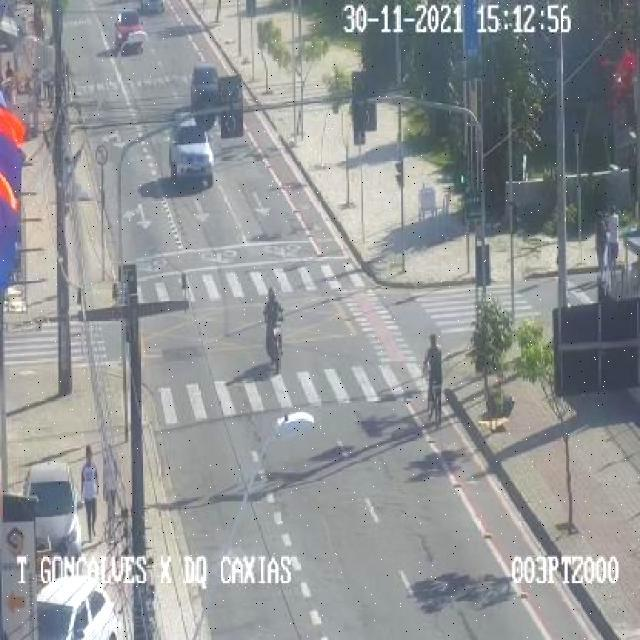Car: (21, 462, 82, 557), (36, 574, 120, 638), (168, 119, 214, 188), (190, 65, 220, 127), (114, 9, 146, 54)
